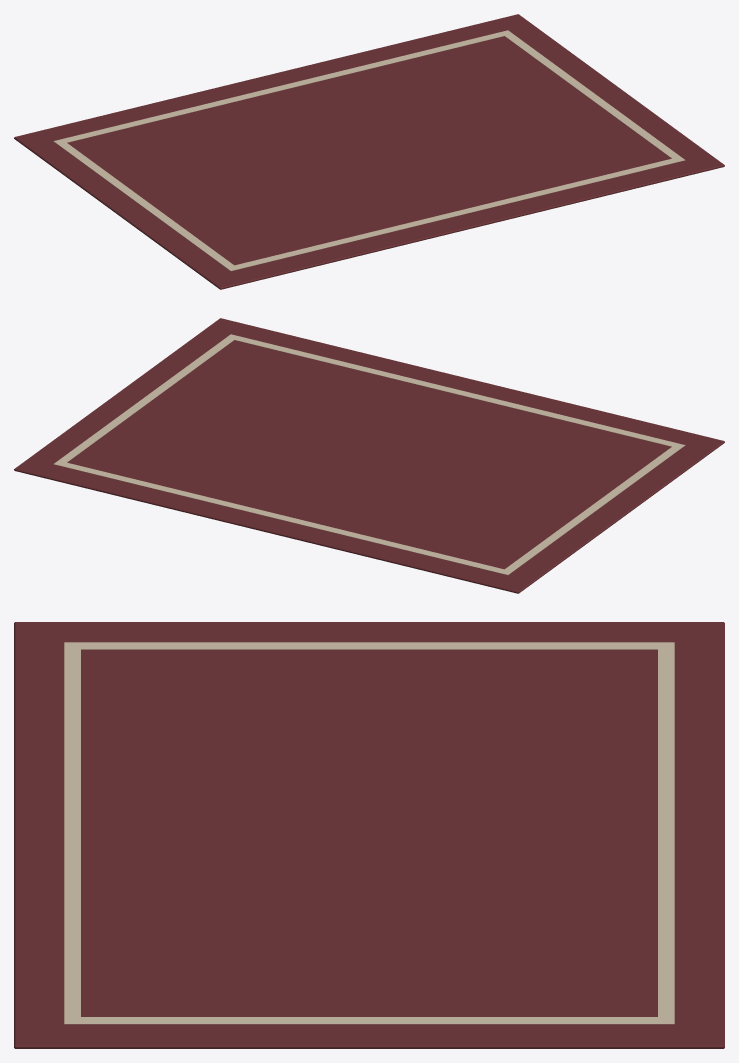
Rendered from prop_rug_rect.glb.
3 views of the same model, one above another, from view 1: azimuth 30°, elevation 25°; view 2: azimuth 150°, elevation 25°; view 3: azimuth 270°, elevation 25° (orthographic). The views are drawn at different scales.
Parts seen in each view (by area): view 1: Rug; view 2: Rug; view 3: Rug.
Boxes of the visible parts, x1=… form: Rug: x1=14, y1=14, x2=724, y2=289; Rug: x1=14, y1=318, x2=724, y2=593; Rug: x1=14, y1=622, x2=724, y2=1048.
Size of what is drawn, in the model's own units: 2.4 by 0.0112 by 1.7.
